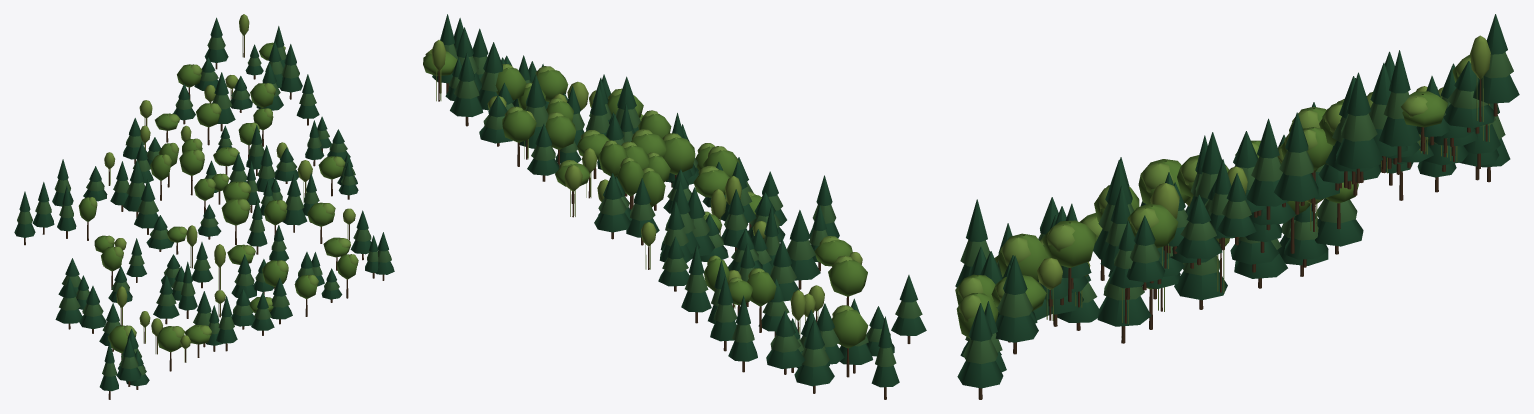
File: forest_4_4.dae
3 renders of one model, left to right at view 1: azimuth 30°, elevation 25°; view 2: azimuth 150°, elevation 25°; view 3: azimuth 270°, elevation 25°, orthographic. The views are drawn at different scales.
Parts seen in each view (by area): view 1: forest_4_4; view 2: forest_4_4; view 3: forest_4_4.
Boxes of the visible parts, x1=… form: forest_4_4: x1=14, y1=14, x2=394, y2=399; forest_4_4: x1=423, y1=14, x2=926, y2=399; forest_4_4: x1=955, y1=14, x2=1519, y2=399.
Bounding box in the file's own units: 132 × 122 × 125.
